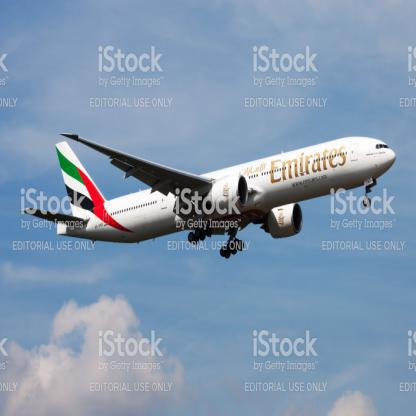CIV_Plane: (22, 127, 396, 258)
